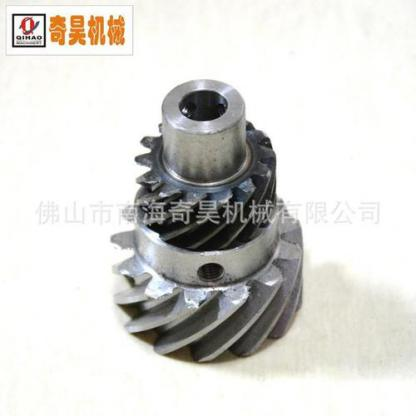FOD: (105, 202, 308, 369), (132, 81, 281, 250)
